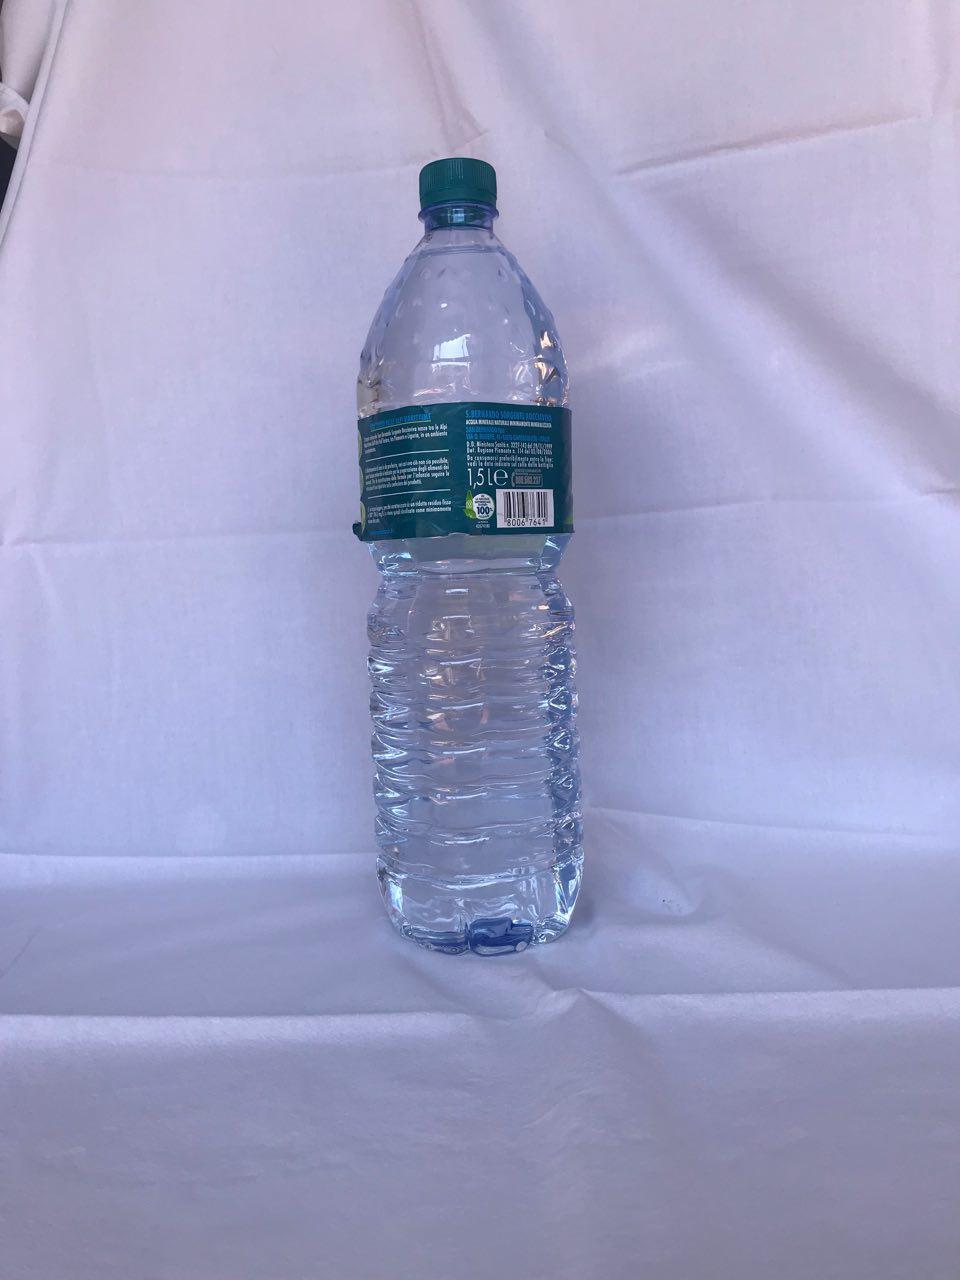san_bernardo: (351, 155, 588, 956)
